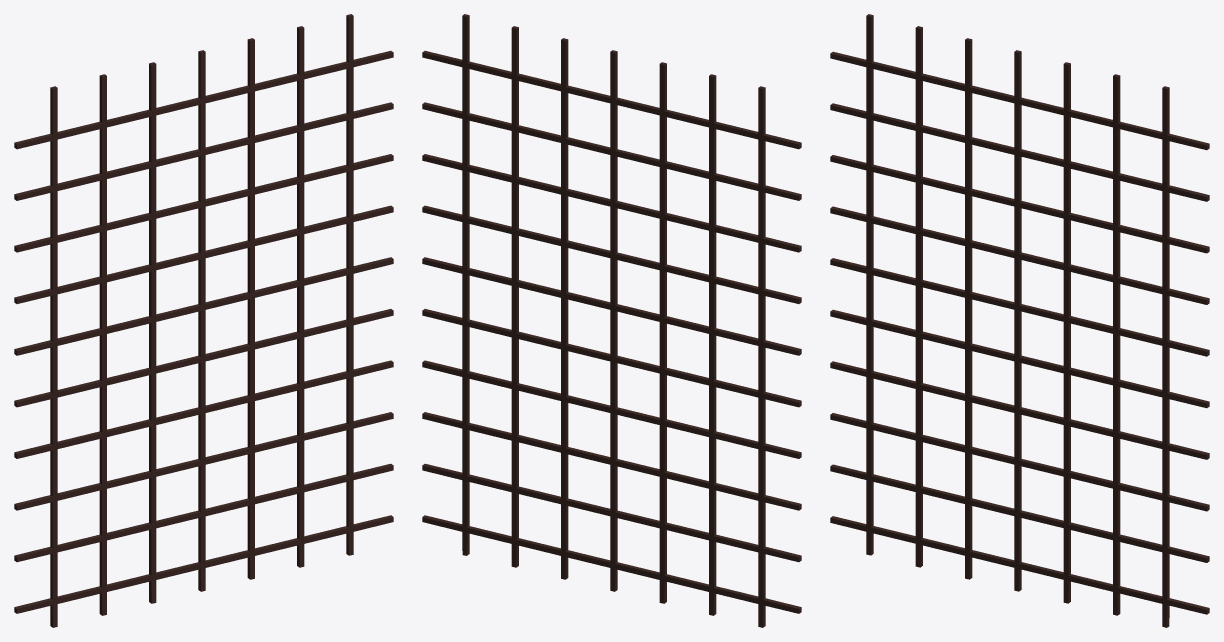
File: Arch_bars.glb
3 renders of one model, left to right at view 1: azimuth 30°, elevation 25°; view 2: azimuth 150°, elevation 25°; view 3: azimuth 330°, elevation 25°, orthographic.
Visible parts, largest first — view 1: Arch_bars; view 2: Arch_bars; view 3: Arch_bars.
Boxes of the visible parts, <box> form: Arch_bars: <box>14,14,393,627</box>; Arch_bars: <box>422,14,801,627</box>; Arch_bars: <box>830,14,1209,627</box>.
Bounding box in the file's own units: 0.6196 × 0.847 × 0.00758.
